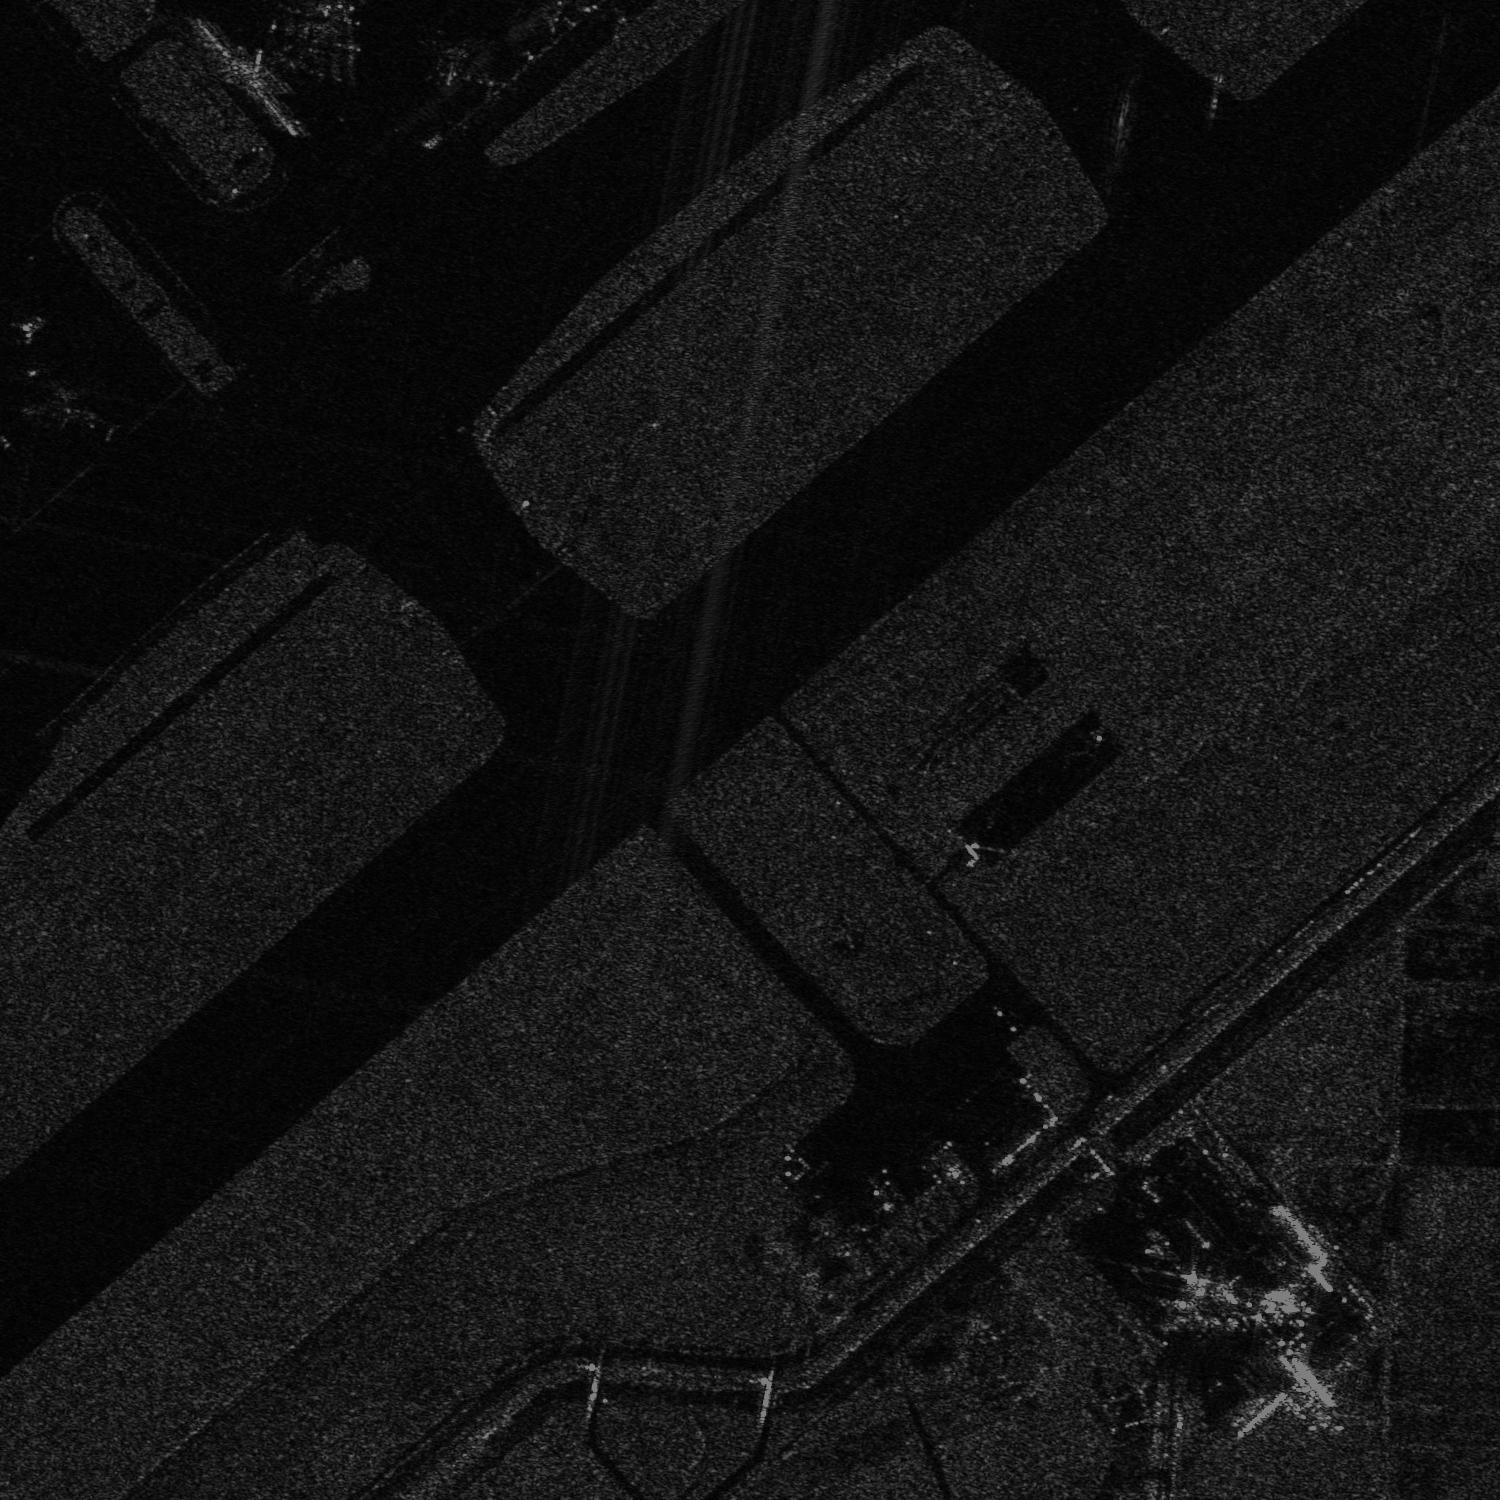Boeing737: (18, 363, 104, 434)
